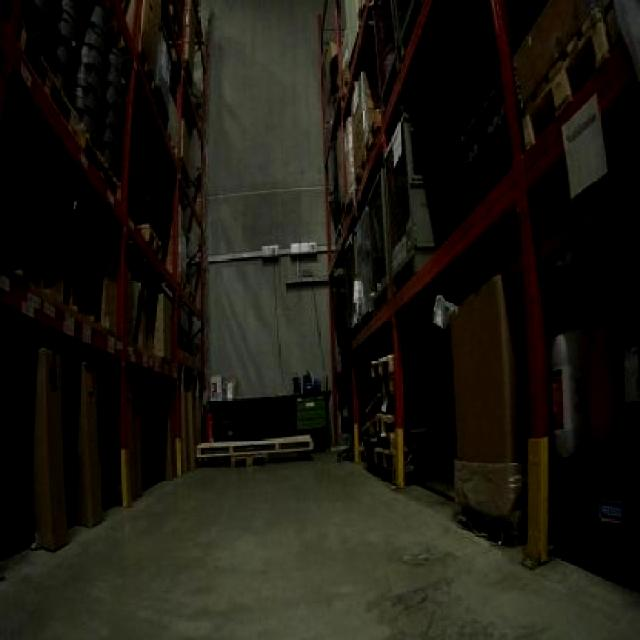floor: (0, 452, 637, 637)
